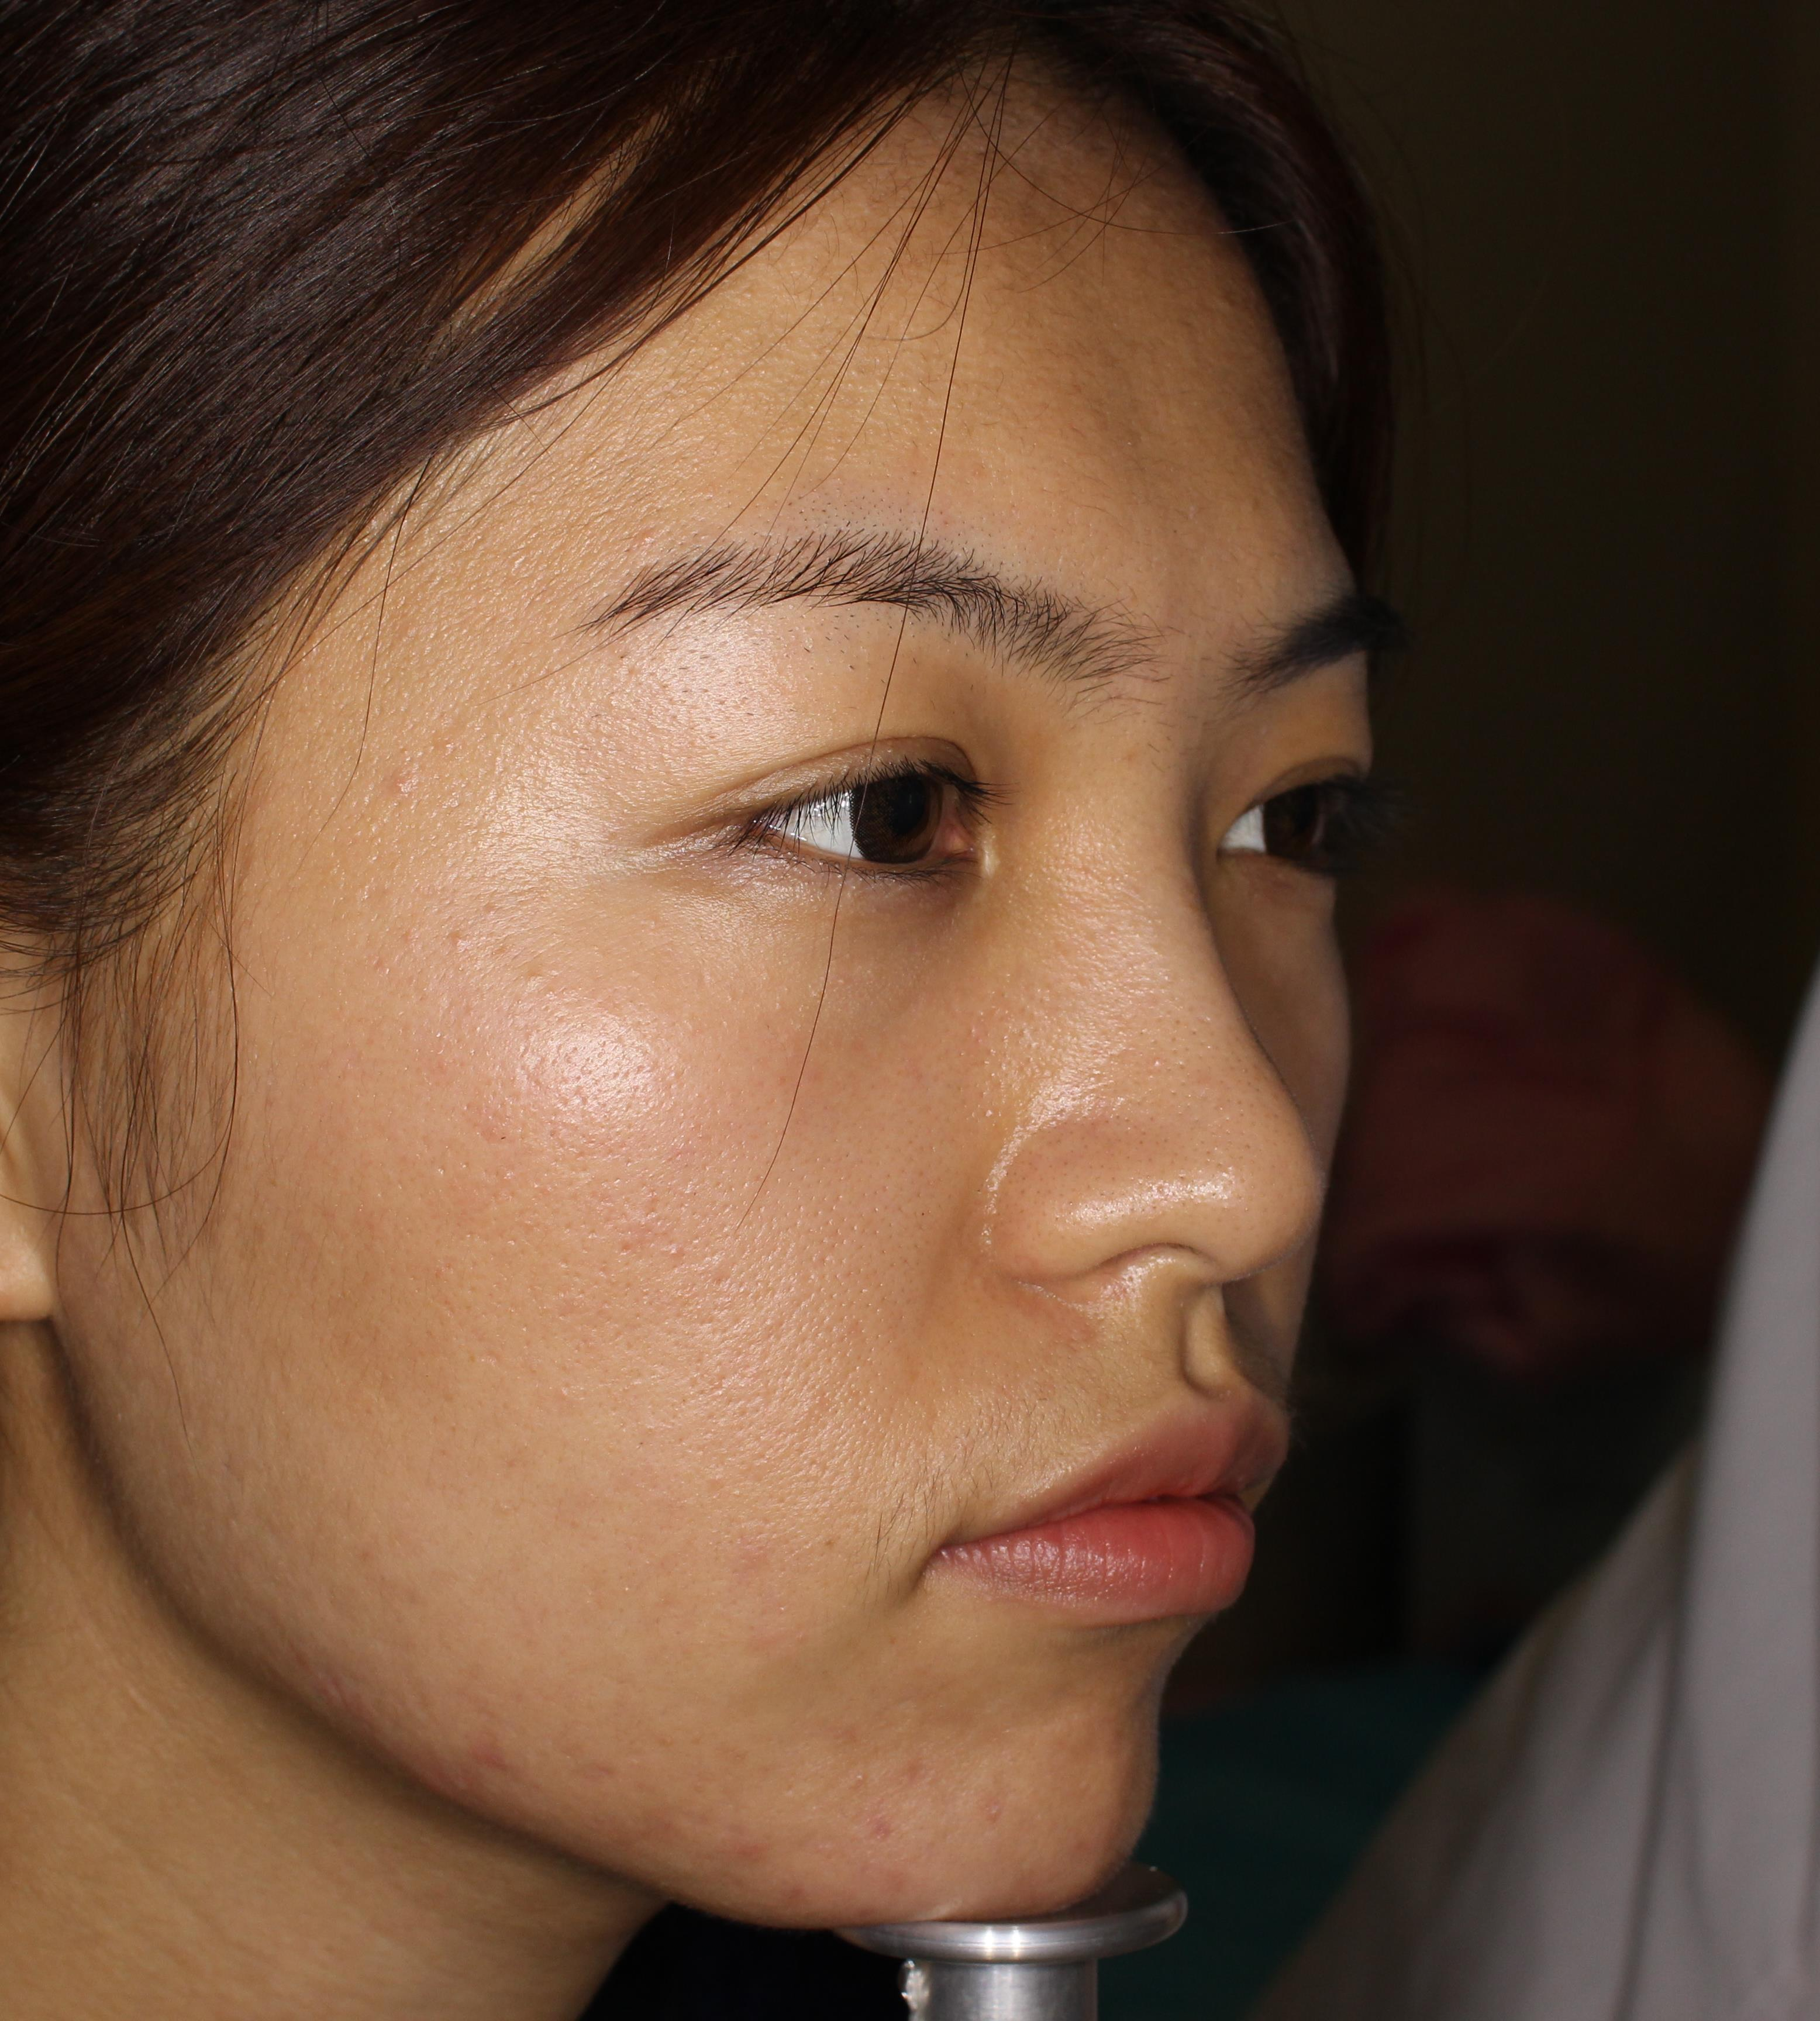fore: (404, 1715, 552, 1794), (710, 1814, 808, 1916)
